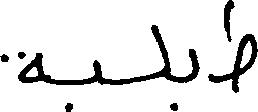X: (224, 0, 257, 97), (0, 47, 44, 87), (152, 20, 171, 111), (189, 44, 198, 85), (93, 55, 101, 89)
